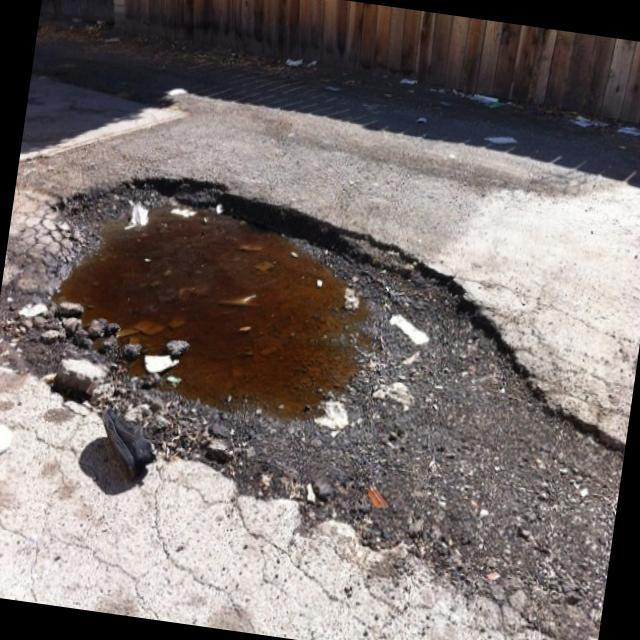Pothole: (24, 156, 419, 462)
